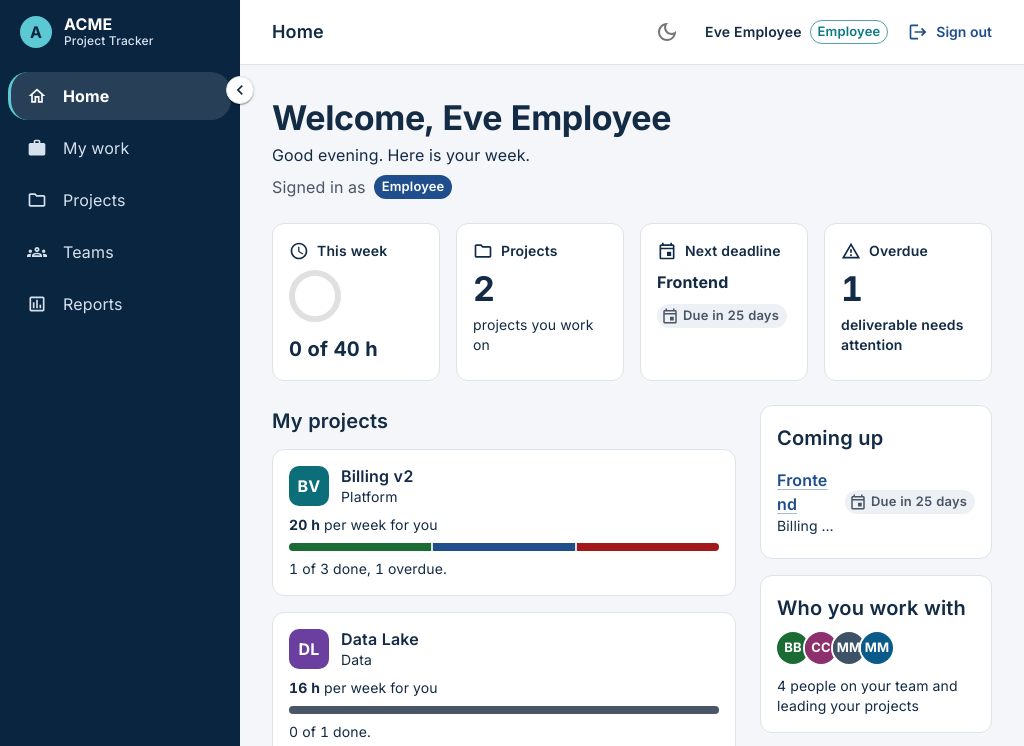
AppShell: collapsible sidebar › still works when the browser blocks storage
The image size is (1024, 746).
Expected: the heading "Welcome, Eve Employee" is shown, x1=272 y1=97 x2=671 y2=139
Click the button named "Collapse sidebar".
click(240, 90)  # box x1=226 y1=76 x2=254 y2=104
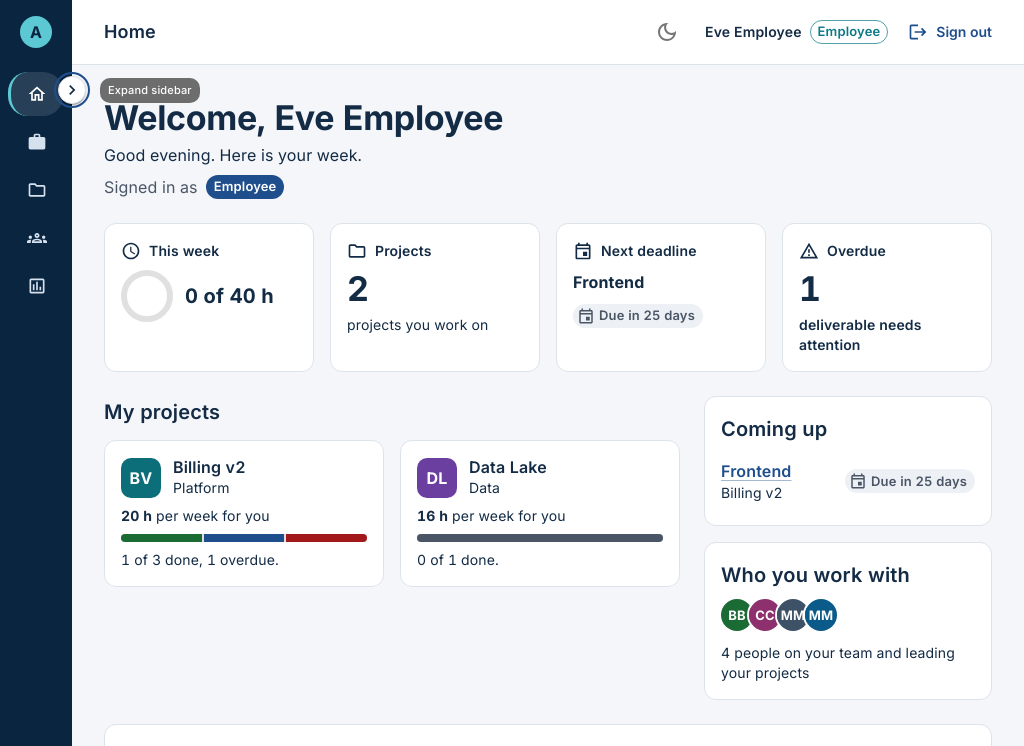
Expected: the button named "Expand sidebar" is shown, x1=58 y1=76 x2=86 y2=104
